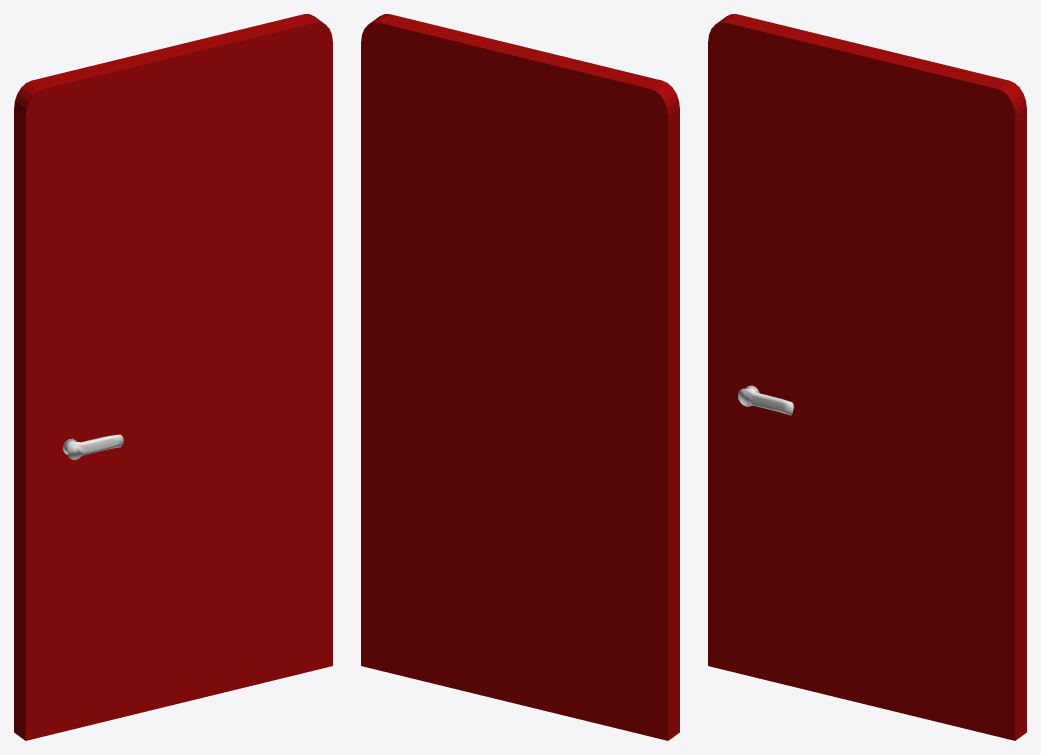
The model's file is porta.fbx.
The picture shows the model from 3 angles, left to right: view 1: azimuth 30°, elevation 25°; view 2: azimuth 150°, elevation 25°; view 3: azimuth 330°, elevation 25°; orthographic projection.
Parts seen in each view (by area): view 1: porta, Circle; view 2: porta; view 3: porta, Circle.
Part boxes in pixels (left/top/right/bottom): porta: left=14, top=14, right=332, bottom=740; Circle: left=62, top=434, right=123, bottom=459; porta: left=361, top=14, right=679, bottom=740; porta: left=708, top=14, right=1026, bottom=740; Circle: left=738, top=385, right=793, bottom=415.
Bounding box in the file's own units: 253 × 509 × 25.81.
